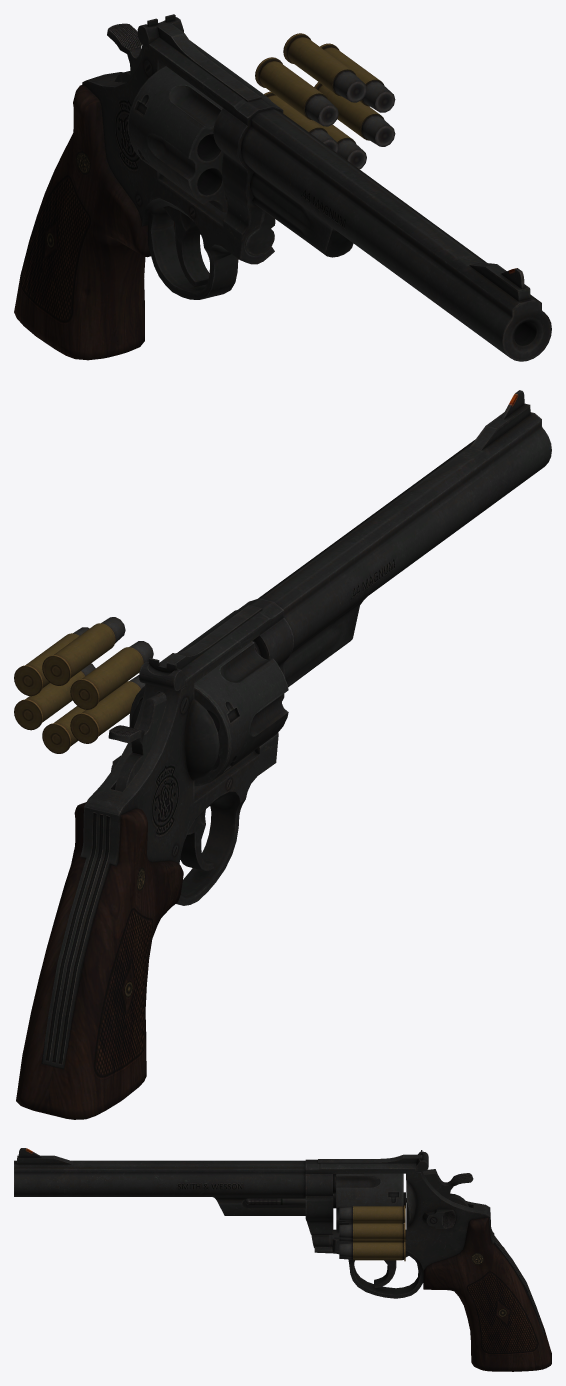
3 renders of one model, top to bottom at view 1: azimuth 30°, elevation 25°; view 2: azimuth 150°, elevation 25°; view 3: azimuth 270°, elevation 25°, orthographic. The views are drawn at different scales.
Visible parts, largest first — view 1: sw29.001, sw29.002; view 2: sw29.001, sw29.002; view 3: sw29.001, sw29.002.
Part boxes in pixels (x1,y1,x2,y2): sw29.001: (14,14,551,361); sw29.002: (255,33,395,169); sw29.001: (16,390,551,1119); sw29.002: (14,617,153,753); sw29.001: (14,1148,551,1371); sw29.002: (339,1205,405,1261).
Bounding box in the file's own units: 420 × 734 × 1636.
